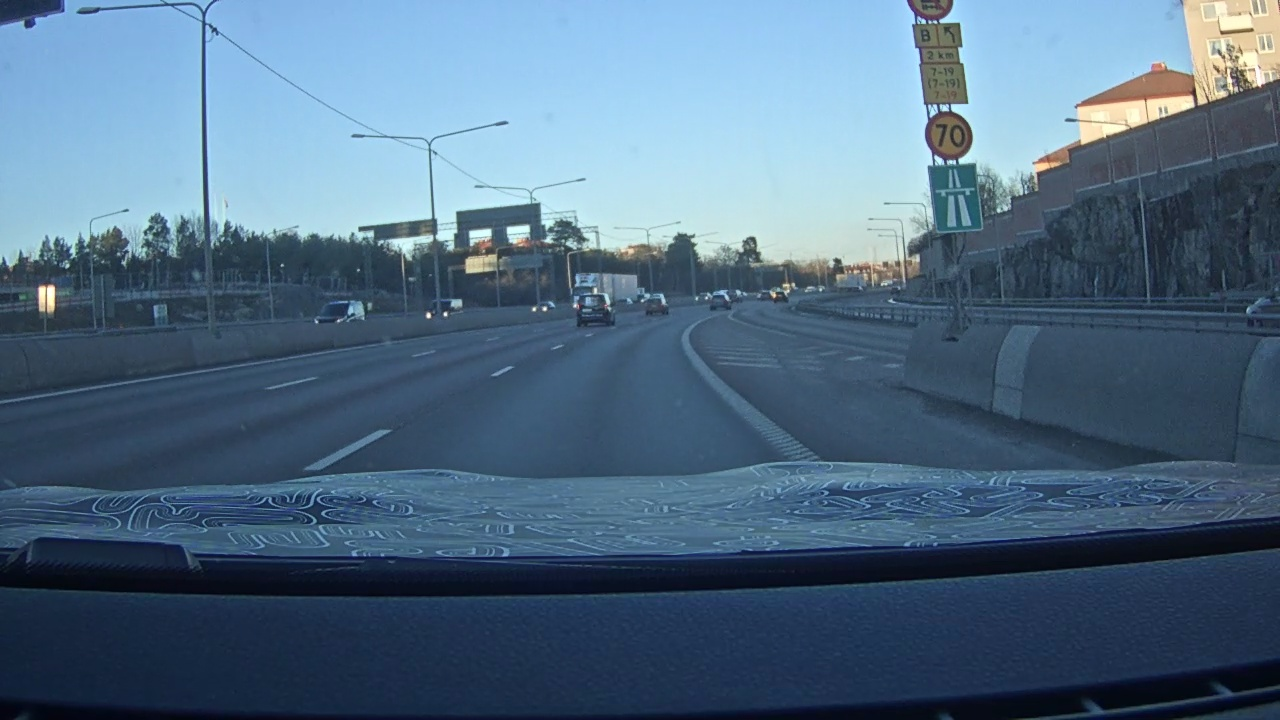Motorway_Begin: (929, 165, 984, 233)
